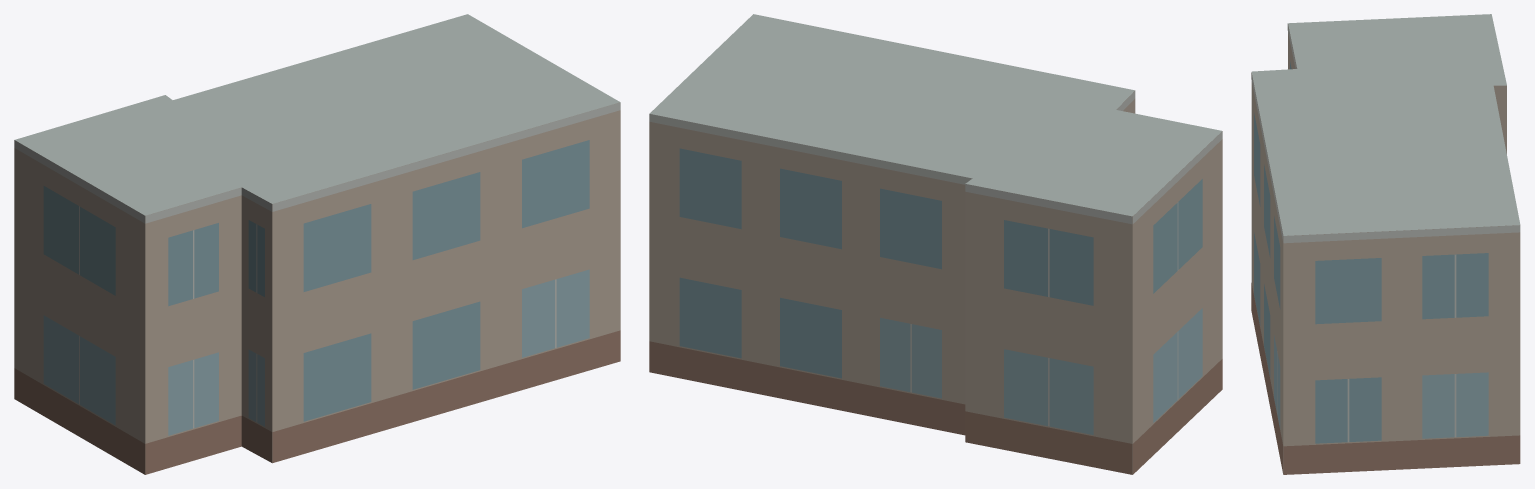
File: survey-upis-32865349.glb
The picture shows the model from 3 angles, left to right: view 1: azimuth 30°, elevation 25°; view 2: azimuth 150°, elevation 25°; view 3: azimuth 270°, elevation 25°; orthographic projection. The views are drawn at different scales.
Parts seen in each view (by area): view 1: survey-upis-32865349.tmp; view 2: survey-upis-32865349.tmp; view 3: survey-upis-32865349.tmp.
Boxes of the visible parts, x1,y1,x2,y2 form: survey-upis-32865349.tmp: (14, 14, 620, 474); survey-upis-32865349.tmp: (649, 14, 1222, 474); survey-upis-32865349.tmp: (1251, 14, 1520, 474).
Size of the model in its own units: 15.85 by 7.95 by 8.12.
